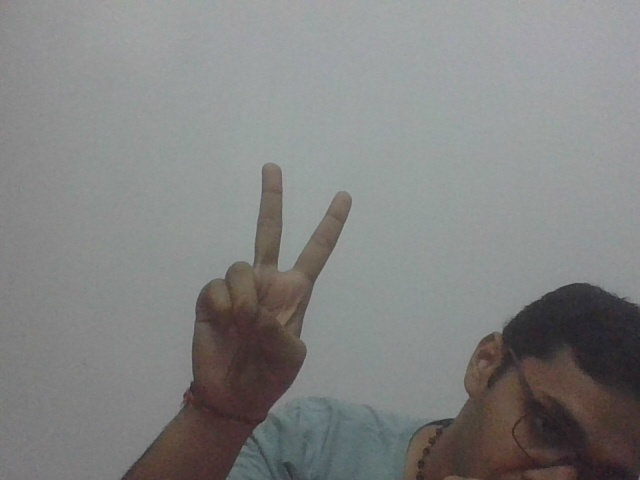V: (186, 155, 357, 414)
